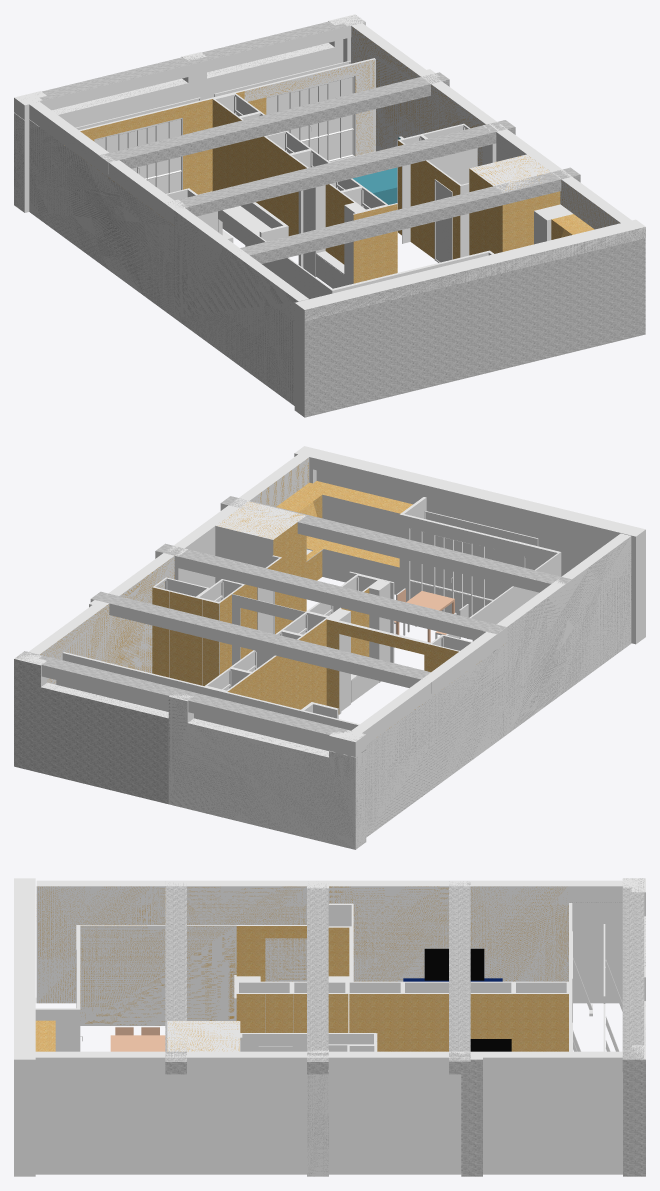
Rendered from walls_visual_colored.dae.
3 renders of one model, top to bottom at view 1: azimuth 30°, elevation 25°; view 2: azimuth 150°, elevation 25°; view 3: azimuth 270°, elevation 25°, orthographic. The views are drawn at different scales.
Parts seen in each view (by area): view 1: Component3 (×34), Component4 (×4); view 2: Component3 (×40), Component4 (×3); view 3: Component3 (×34), Component4 (×3).
Boxes of the visible parts, box(x1,y1,x2,y2) form: Component3 (×34): box(14, 14, 645, 417); Component4 (×4): box(222, 137, 400, 288); Component3 (×40): box(14, 446, 645, 849); Component4 (×3): box(329, 580, 454, 711); Component3 (×34): box(14, 878, 645, 1176); Component4 (×3): box(110, 948, 511, 1051).
Size of the model in its own units: 377 by 548 by 113.
Materials: 9 (2 with a texture image).
